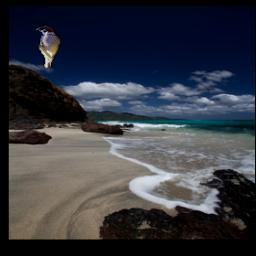Sparrow: (35, 26, 60, 69)
